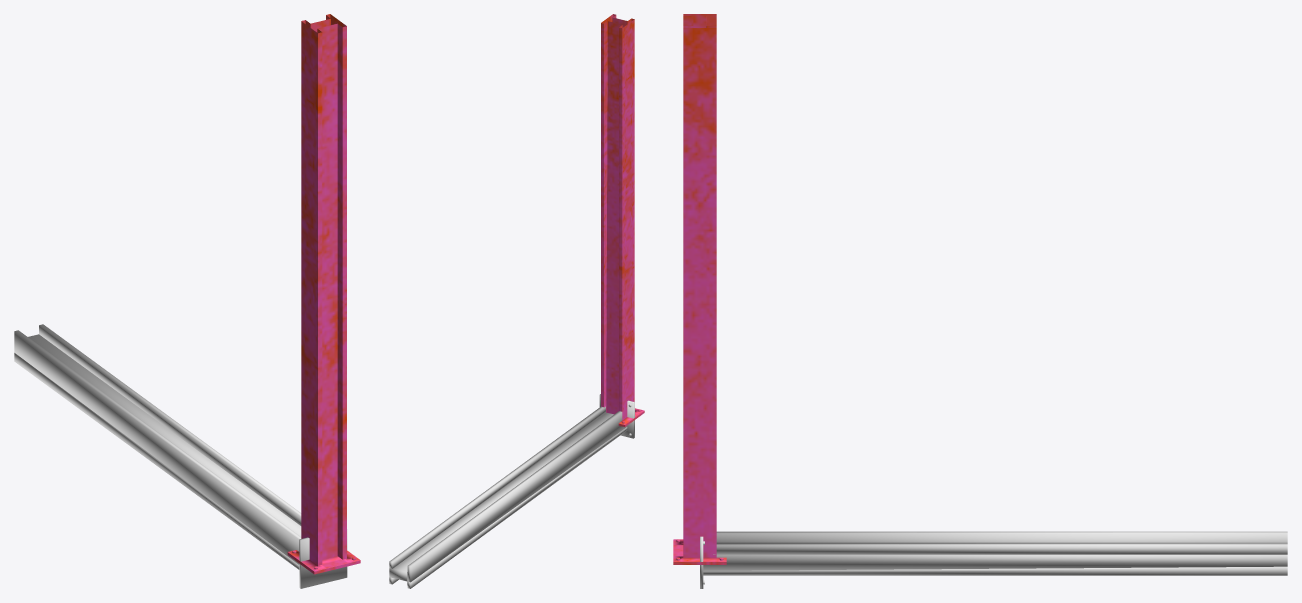
Rendered from SM_Pillar_InsideWarehouse.fbx.
3 views of the same model, side by side, from view 1: azimuth 30°, elevation 25°; view 2: azimuth 150°, elevation 25°; view 3: azimuth 270°, elevation 25° (orthographic). The views are drawn at different scales.
Parts seen in each view (by area): view 1: SM_Pillar_InsideWarehouse, SM_Pillar_InsideWarehouse_ConvexHulls; view 2: SM_Pillar_InsideWarehouse, SM_Pillar_InsideWarehouse_ConvexHulls; view 3: SM_Pillar_InsideWarehouse_ConvexHulls, SM_Pillar_InsideWarehouse.
Part boxes in pixels (<box>): SM_Pillar_InsideWarehouse: <box>287,14,360,574</box>; SM_Pillar_InsideWarehouse_ConvexHulls: <box>14,324,347,588</box>; SM_Pillar_InsideWarehouse: <box>601,14,644,426</box>; SM_Pillar_InsideWarehouse_ConvexHulls: <box>389,394,634,588</box>; SM_Pillar_InsideWarehouse_ConvexHulls: <box>700,531,1287,588</box>; SM_Pillar_InsideWarehouse: <box>673,14,726,564</box>.
Bounding box in the file's own units: 0.8 × 9.2 × 9.2.
